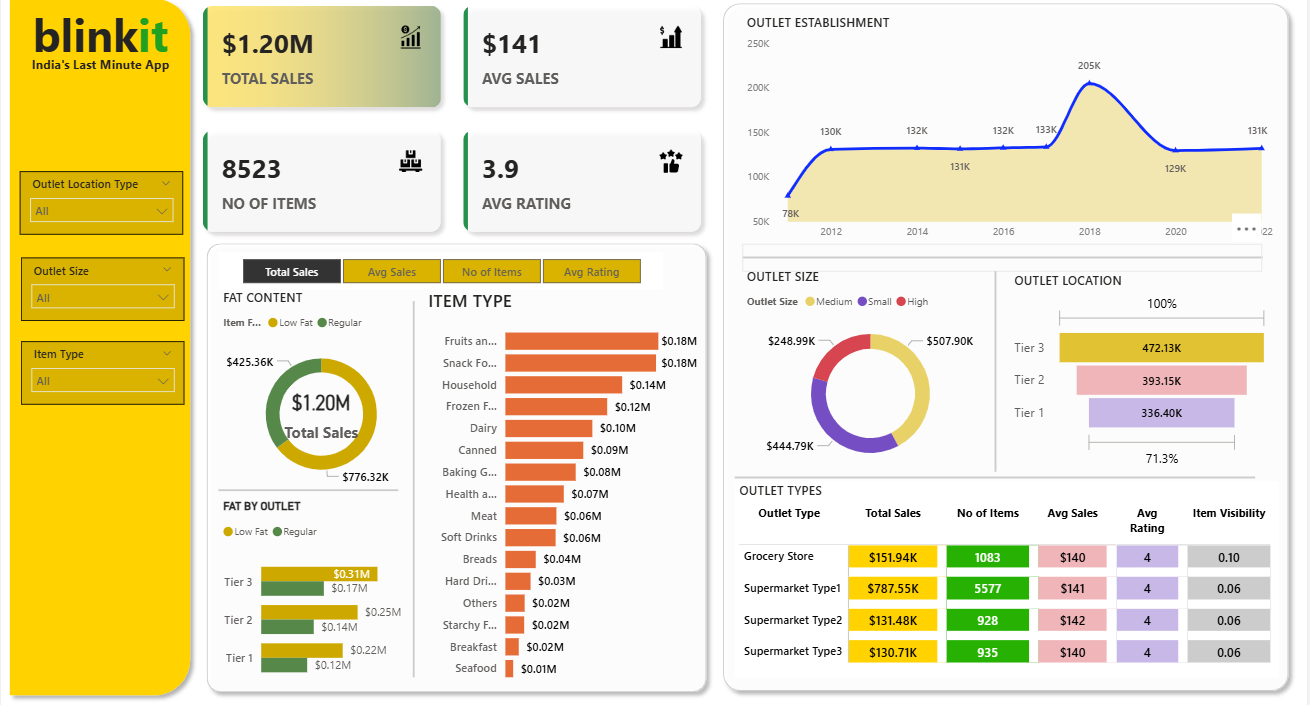

What the dashboard file says about the page in this screenshot:
{"tool":"powerbi","page":{"name":"Page 1","canvas":[1400,800],"ordinal":0},"visuals":[{"type":"shape","box":[0,0,212,765.7],"z":0},{"type":"textbox","box":[1.5,8.8,210.6,73.6],"z":1000},{"type":"textbox","box":[7.4,66.3,200.3,30.9],"z":2000},{"type":"cardVisual","fields":{"Data":["BlinkIT Grocery Data.Total Sales","BlinkIT Grocery Data.Avg Sales","BlinkIT Grocery Data.No of Items","BlinkIT Grocery Data.Avg Rating"]},"box":[200.3,0,569.8,276.8],"z":3000},{"type":"shape","box":[212,262.1,553.6,499.2],"z":4000},{"type":"slicer","fields":{"Values":["Metrics.Metrics"]},"box":[232.6,281.2,477.1,39.8],"z":5000},{"type":"donutChart","title":"FAT CONTENT","fields":{"Y":["BlinkIT Grocery Data.Total Sales"],"Category":["BlinkIT Grocery Data.Item Fat Content"]},"box":[232.6,321,220.9,223.8],"z":6000,"group":"g1"},{"type":"clusteredBarChart","title":"FAT BY OUTLET","fields":{"Y":["BlinkIT Grocery Data.Total Sales"],"Category":["BlinkIT Grocery Data.Outlet Location Type"],"Series":["BlinkIT Grocery Data.Item Fat Content"]},"box":[232.6,546.3,220.9,207.6],"z":6000},{"type":"card","fields":{"Values":["BlinkIT Grocery Data.Total Sales"]},"box":[294.4,409.3,97.2,88.3],"z":7000,"group":"g1"},{"type":"shape","box":[232.6,527.1,192.9,19.1],"z":7000},{"type":"shape","box":[425.5,334.2,35.3,403.5],"z":8000},{"type":"barChart","title":"ITEM TYPE","fields":{"Y":["BlinkIT Grocery Data.Total Sales"],"Category":["BlinkIT Grocery Data.Item Type"]},"box":[453.5,321,298.9,431.4],"z":9000},{"type":"shape","box":[765.7,5.9,624.3,755.4],"z":10000},{"type":"lineChart","title":"OUTLET ESTABLISHMENT","fields":{"Y":["Sum(BlinkIT Grocery Data.Sales)"],"Category":["BlinkIT Grocery Data.Outlet Establishment Year"]},"box":[795.1,25,574.3,250.3],"z":11000},{"type":"donutChart","title":"OUTLET SIZE","fields":{"Y":["BlinkIT Grocery Data.Total Sales"],"Category":["BlinkIT Grocery Data.Outlet Size"]},"box":[795.1,297.4,275.3,225.3],"z":12000},{"type":"shape","box":[795.1,272.4,558.1,29.4],"z":13000},{"type":"shape","box":[1057.2,301.9,17.7,215],"z":14000},{"type":"funnel","title":"OUTLET LOCATION","fields":{"Category":["BlinkIT Grocery Data.Outlet Location Type"],"Y":["Sum(BlinkIT Grocery Data.Sales)"]},"box":[1082.3,301.9,282.7,216.5],"z":15000},{"type":"shape","box":[786.3,508,558.1,29.4],"z":16000},{"type":"pivotTable","title":"OUTLET TYPES","fields":{"Rows":["BlinkIT Grocery Data.Outlet Type"],"Values":["BlinkIT Grocery Data.Total Sales","BlinkIT Grocery Data.No of Items","BlinkIT Grocery Data.Avg Sales","BlinkIT Grocery Data.Avg Rating","Avg(BlinkIT Grocery Data.Item Visibility)"]},"box":[786.3,527.1,583.1,210.6],"z":17000},{"type":"group","id":"g1","title":"Group 1","box":[232.6,321,220.9,223.8],"z":18000},{"type":"slicer","fields":{"Values":["BlinkIT Grocery Data.Outlet Location Type"]},"box":[20.6,194.4,175.2,67.7],"z":19000},{"type":"slicer","fields":{"Values":["BlinkIT Grocery Data.Outlet Size"]},"box":[22.1,287.1,175.2,67.7],"z":20000},{"type":"slicer","fields":{"Values":["BlinkIT Grocery Data.Item Type"]},"box":[22.1,376.9,175.2,67.7],"z":21000}]}

Visuals, with their boxes on the page's 1400x800 design canvas (x1, y1, x2, y2). These are canvas units, not pixel positions in the 1310x705 screenshot, which may show the page scaled, cropped or inside an application window:
shape: (x1=0, y1=0, x2=212, y2=766)
textbox: (x1=2, y1=9, x2=212, y2=82)
textbox: (x1=7, y1=66, x2=208, y2=97)
cardVisual - BlinkIT Grocery Data.Total Sales x BlinkIT Grocery Data.Avg Sales: (x1=200, y1=0, x2=770, y2=277)
shape: (x1=212, y1=262, x2=766, y2=761)
slicer - Metrics.Metrics: (x1=233, y1=281, x2=710, y2=321)
"FAT CONTENT" donutChart: (x1=233, y1=321, x2=454, y2=545)
"FAT BY OUTLET" clusteredBarChart: (x1=233, y1=546, x2=454, y2=754)
card - BlinkIT Grocery Data.Total Sales: (x1=294, y1=409, x2=392, y2=498)
shape: (x1=233, y1=527, x2=426, y2=546)
shape: (x1=426, y1=334, x2=461, y2=738)
"ITEM TYPE" barChart: (x1=454, y1=321, x2=752, y2=752)
shape: (x1=766, y1=6, x2=1390, y2=761)
"OUTLET ESTABLISHMENT" lineChart: (x1=795, y1=25, x2=1369, y2=275)
"OUTLET SIZE" donutChart: (x1=795, y1=297, x2=1070, y2=523)
shape: (x1=795, y1=272, x2=1353, y2=302)
shape: (x1=1057, y1=302, x2=1075, y2=517)
"OUTLET LOCATION" funnel: (x1=1082, y1=302, x2=1365, y2=518)
shape: (x1=786, y1=508, x2=1344, y2=537)
"OUTLET TYPES" pivotTable: (x1=786, y1=527, x2=1369, y2=738)
"Group 1" group: (x1=233, y1=321, x2=454, y2=545)
slicer - BlinkIT Grocery Data.Outlet Location Type: (x1=21, y1=194, x2=196, y2=262)
slicer - BlinkIT Grocery Data.Outlet Size: (x1=22, y1=287, x2=197, y2=355)
slicer - BlinkIT Grocery Data.Item Type: (x1=22, y1=377, x2=197, y2=445)
